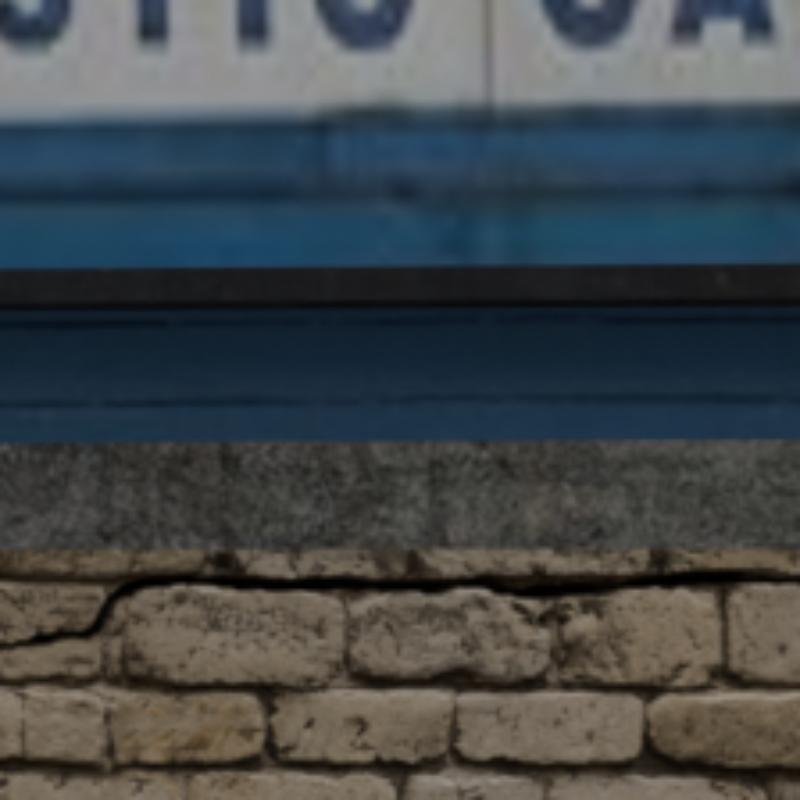crack: (0, 569, 796, 648)
